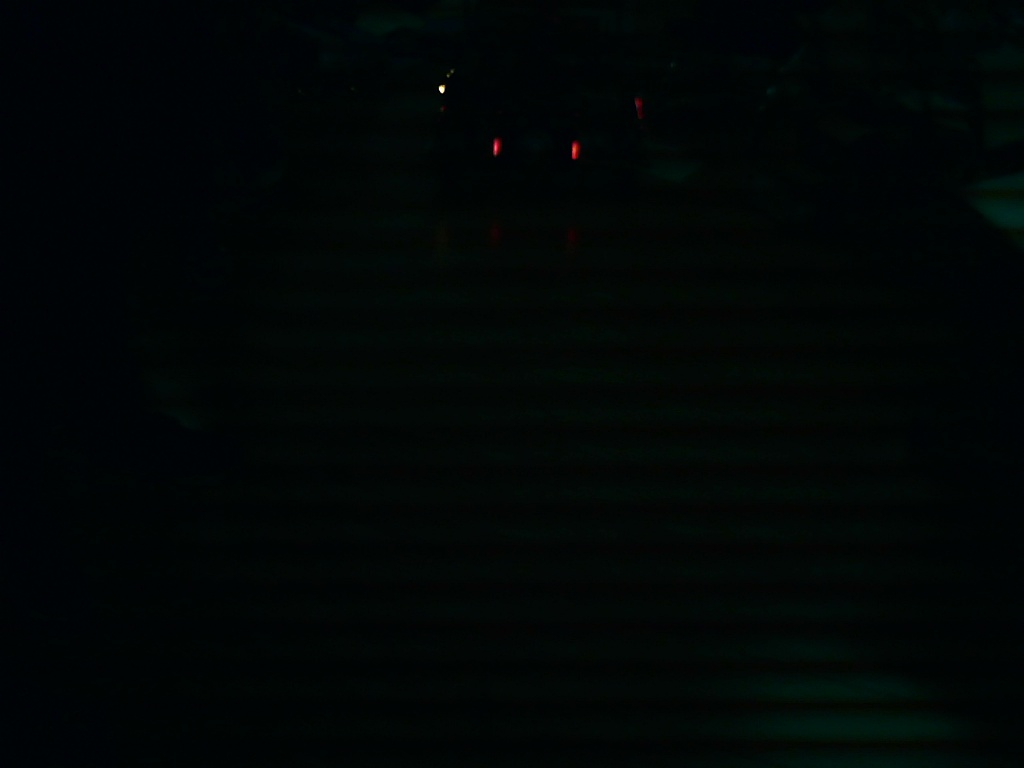lamp: (490, 134, 503, 161), (568, 138, 581, 163)
